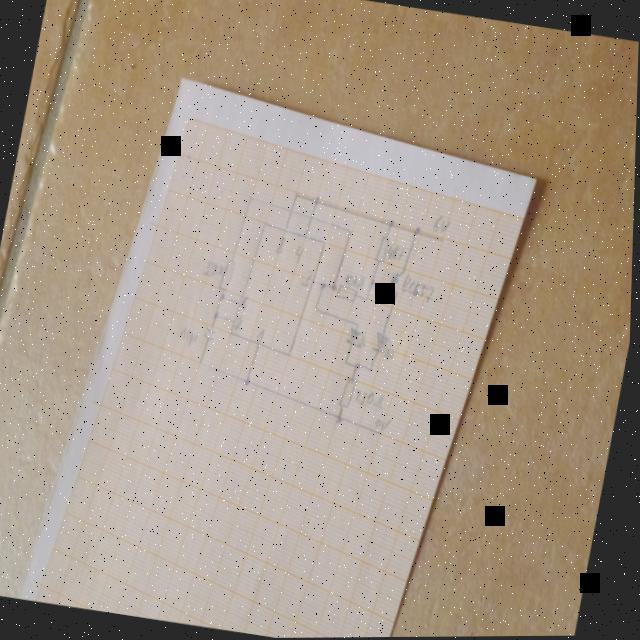capacitor: (205, 324, 220, 342)
crossover: (308, 212, 318, 223), (287, 206, 299, 215)
diode: (373, 331, 399, 361), (345, 326, 371, 349)
junction: (335, 413, 347, 425), (414, 226, 423, 237), (370, 277, 379, 288), (314, 196, 323, 207), (331, 281, 339, 293), (245, 376, 253, 388), (388, 218, 396, 229), (355, 360, 363, 371), (199, 357, 207, 368), (364, 294, 373, 303), (321, 279, 328, 290), (368, 363, 375, 374), (215, 309, 222, 320), (348, 227, 356, 236), (344, 358, 352, 367), (220, 292, 228, 301), (315, 304, 322, 313), (294, 191, 301, 200), (249, 194, 256, 203), (356, 320, 363, 327)
resistor: (339, 375, 359, 410), (220, 257, 238, 292), (374, 234, 392, 265), (336, 284, 360, 303)
terminal: (440, 236, 447, 245), (378, 429, 385, 437)
text: (401, 274, 438, 306), (355, 388, 388, 410), (179, 325, 203, 348), (432, 214, 454, 235), (204, 260, 226, 279), (344, 273, 368, 290), (388, 244, 407, 262), (300, 268, 316, 288), (376, 417, 394, 431), (275, 235, 288, 254), (295, 244, 307, 264), (235, 315, 247, 332), (257, 327, 269, 343), (241, 295, 251, 311)
transistor: (387, 267, 406, 297)
